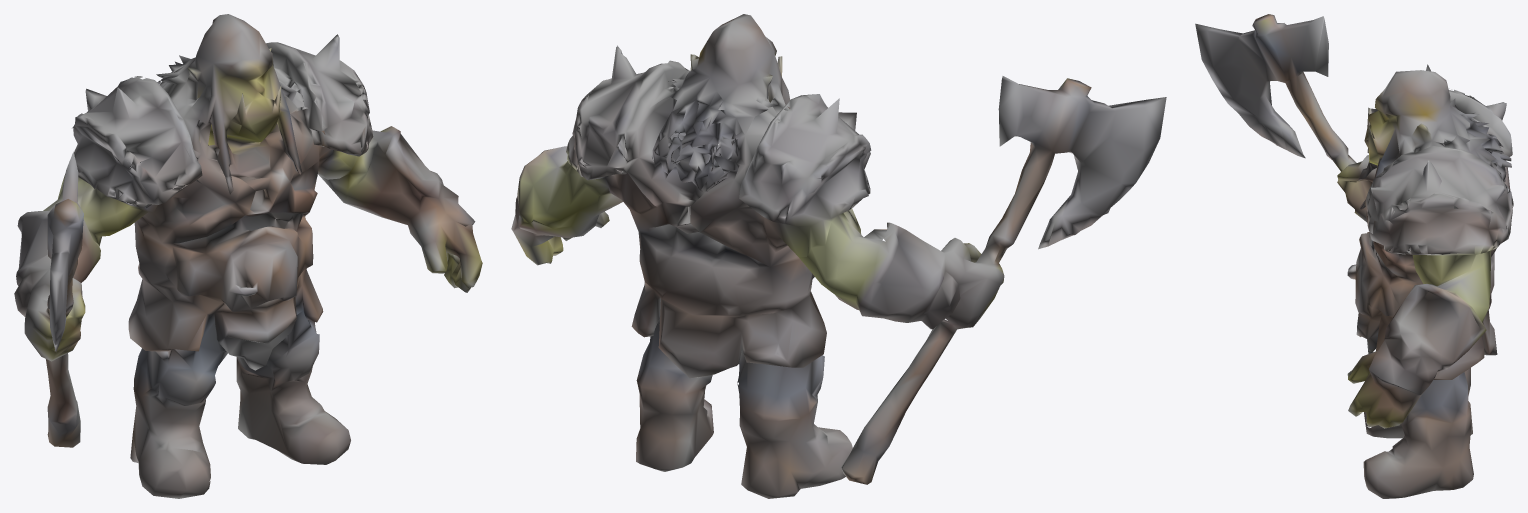
Rendered from ogre.glb.
The picture shows the model from 3 angles, left to right: view 1: azimuth 30°, elevation 25°; view 2: azimuth 150°, elevation 25°; view 3: azimuth 270°, elevation 25°; orthographic projection. The views are drawn at different scales.
Bounding box in the file's own units: 0.9948 × 0.7975 × 0.5898.
